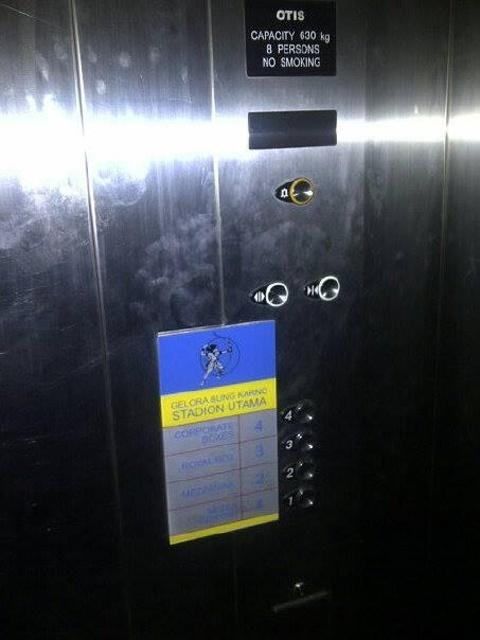1: (280, 485, 316, 512)
2: (280, 456, 316, 482)
3: (281, 428, 315, 456)
4: (280, 397, 315, 427)
alarm: (274, 178, 311, 203)
blur: (290, 578, 310, 599)
close: (299, 274, 340, 303)
led: (247, 108, 335, 149)
open: (247, 280, 288, 308)
